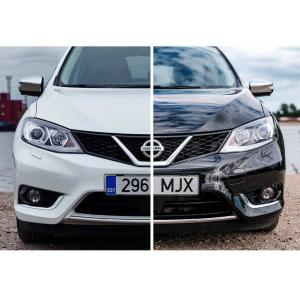Vehicle-registration-plate: (105, 175, 201, 196)
